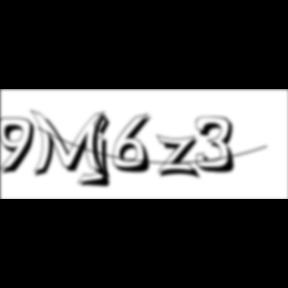3: (196, 116, 242, 176)
6: (112, 112, 158, 176)
9: (0, 117, 42, 177)
M: (29, 108, 113, 181)
j: (90, 113, 118, 191)
z: (156, 134, 206, 182)
